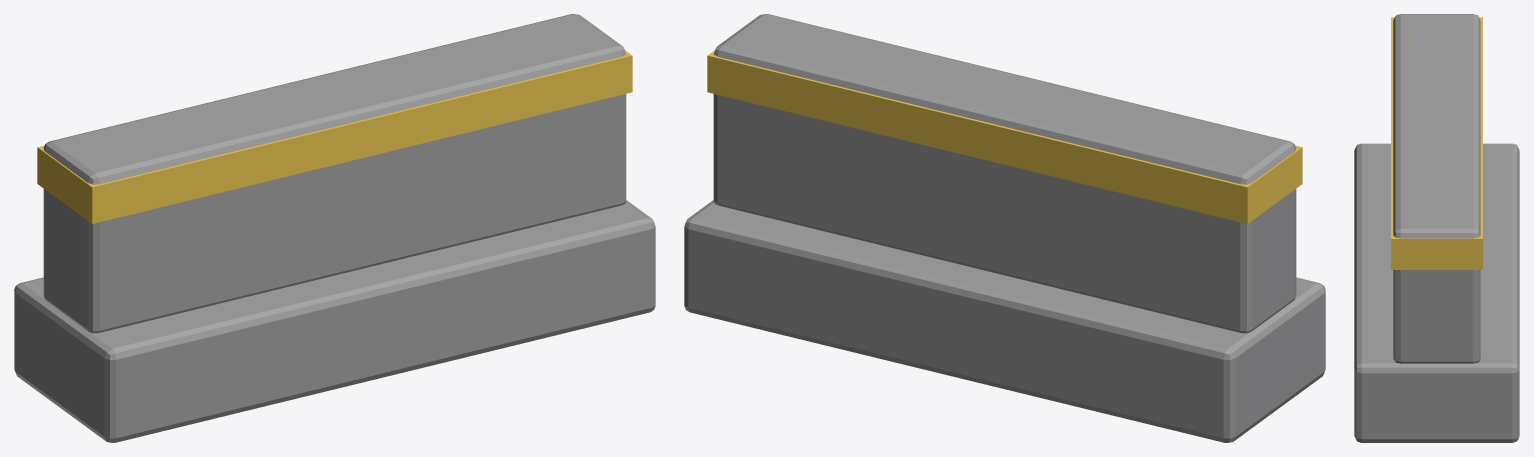
Rendered from barricade.glb.
The picture shows the model from 3 angles, left to right: view 1: azimuth 30°, elevation 25°; view 2: azimuth 150°, elevation 25°; view 3: azimuth 270°, elevation 25°; orthographic projection. The views are drawn at different scales.
Parts seen in each view (by area): view 1: Upper, Base, TopStripe; view 2: Upper, Base, TopStripe; view 3: Base, Upper, TopStripe.
Boxes of the visible parts, box(x1,y1,x2,y2) form: Upper: box(43, 14, 626, 333); Base: box(14, 200, 655, 442); TopStripe: box(37, 50, 632, 223); Upper: box(713, 14, 1296, 333); Base: box(684, 200, 1325, 442); TopStripe: box(707, 50, 1302, 223); Base: box(1354, 143, 1519, 442); Upper: box(1393, 14, 1480, 363); TopStripe: box(1391, 17, 1482, 269).
Size of what is drawn, in the model's own units: 2.2 by 0.96 by 0.68.
